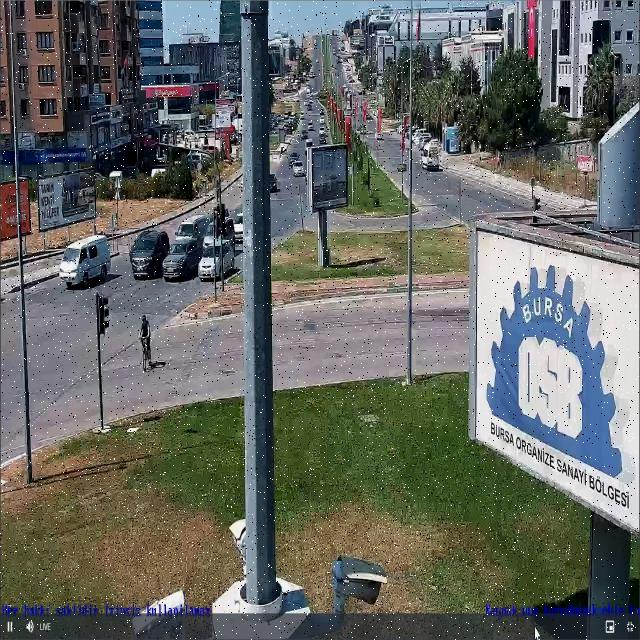bicycle: (138, 310, 154, 370)
car: (60, 232, 109, 294)
